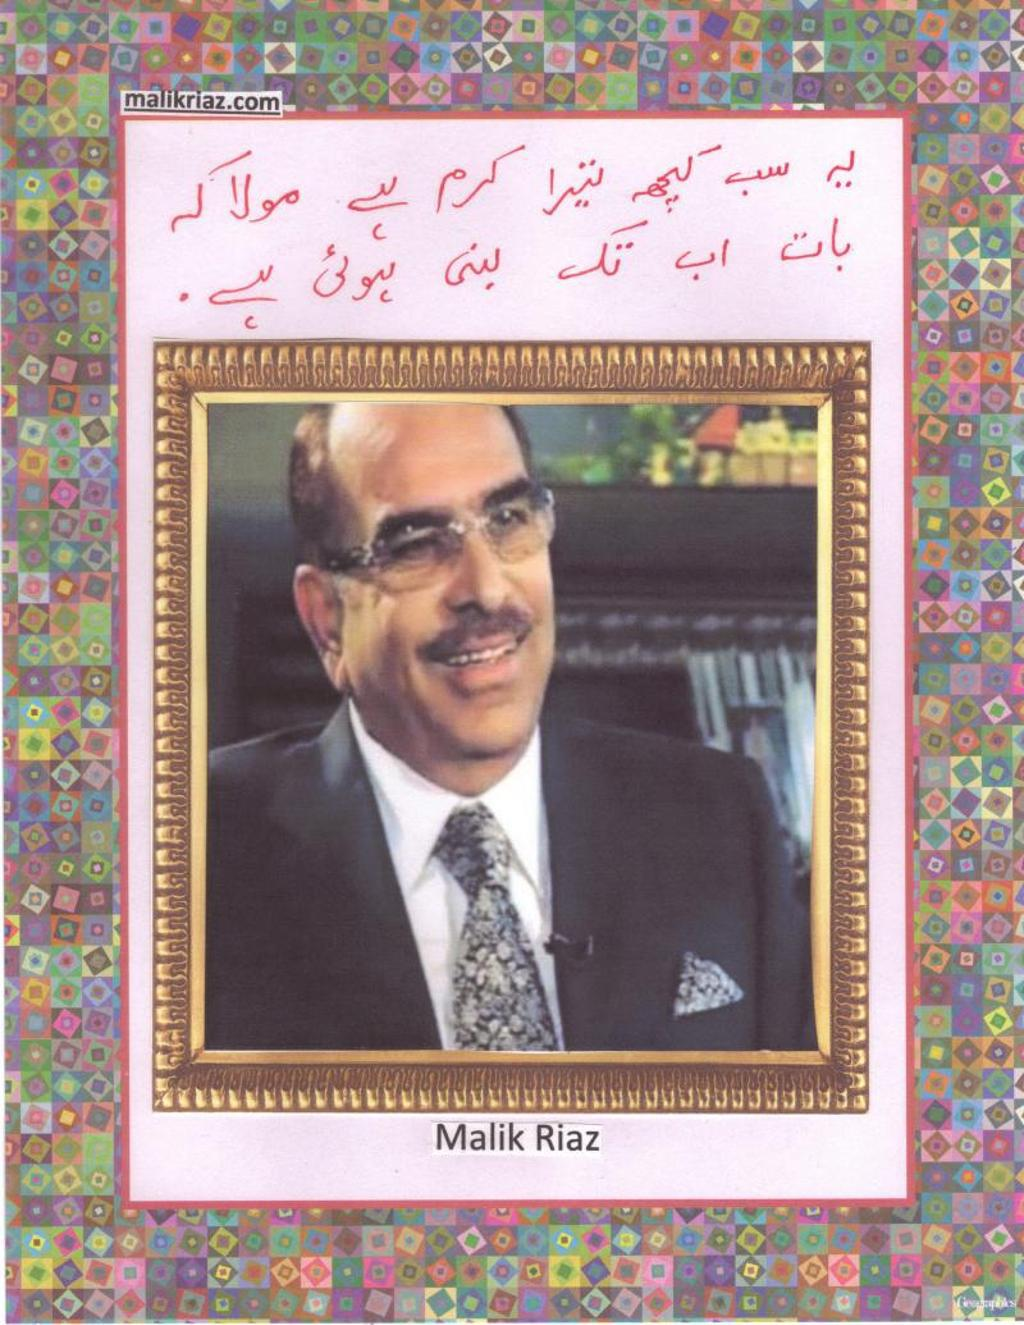face: (340, 407, 555, 756)
